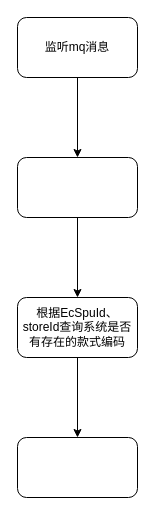
This 155x515 diagram has some shape labels left out. Here are the shapes that lost their labels. From the top down, the box of each, then its label:
(16, 156, 138, 218): 根据storeId查询店铺信息
(16, 436, 138, 498): 根据skuId、storeId查询系统是否有存在的款式编码
